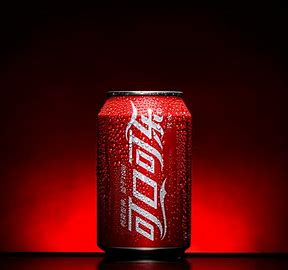Coke: (93, 84, 193, 258)
